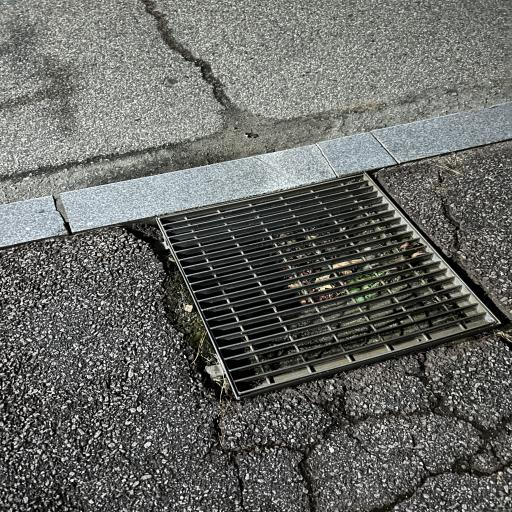drain: (157, 174, 499, 399)
